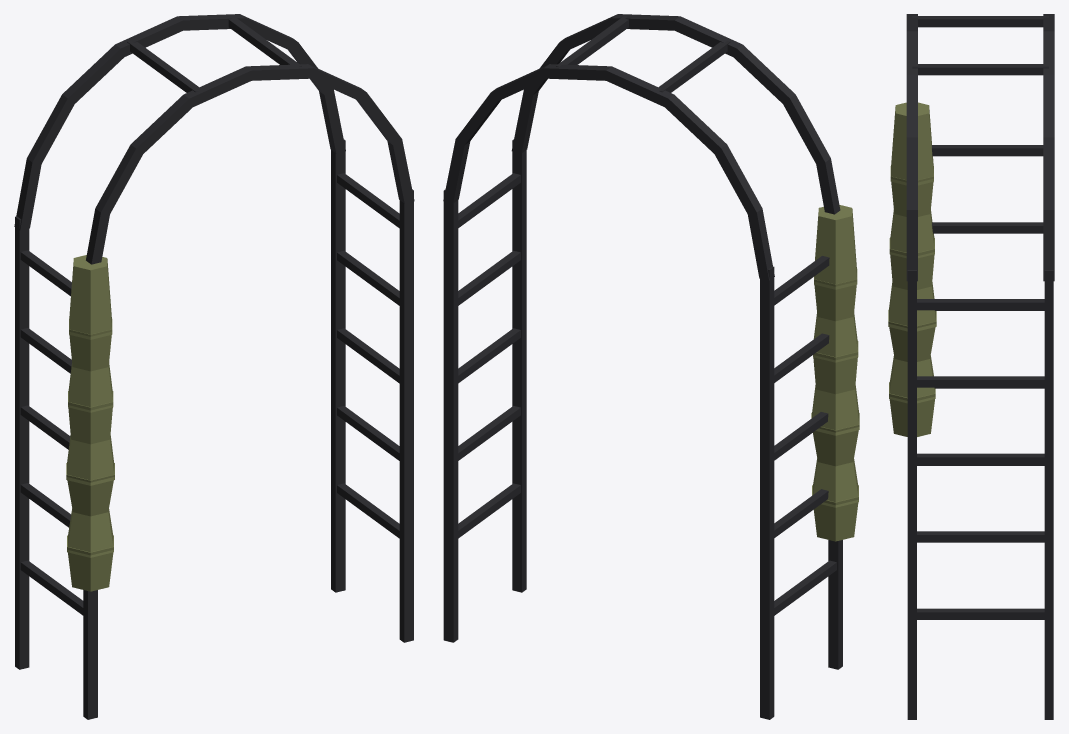
The model's file is FN_Arch_Garden.glb.
3 renders of one model, left to right at view 1: azimuth 30°, elevation 25°; view 2: azimuth 150°, elevation 25°; view 3: azimuth 270°, elevation 25°, orthographic.
Visible parts, largest first — view 1: FN_Arch_Garden; view 2: FN_Arch_Garden; view 3: FN_Arch_Garden.
Boxes of the visible parts, box(x1,y1,x2,y2) form: FN_Arch_Garden: box(14, 14, 414, 719); FN_Arch_Garden: box(443, 14, 859, 719); FN_Arch_Garden: box(888, 14, 1054, 719).
Bounding box in the file's own units: 1.4 × 2.36 × 0.5849.
Materials: 1 (1 with a texture image).
